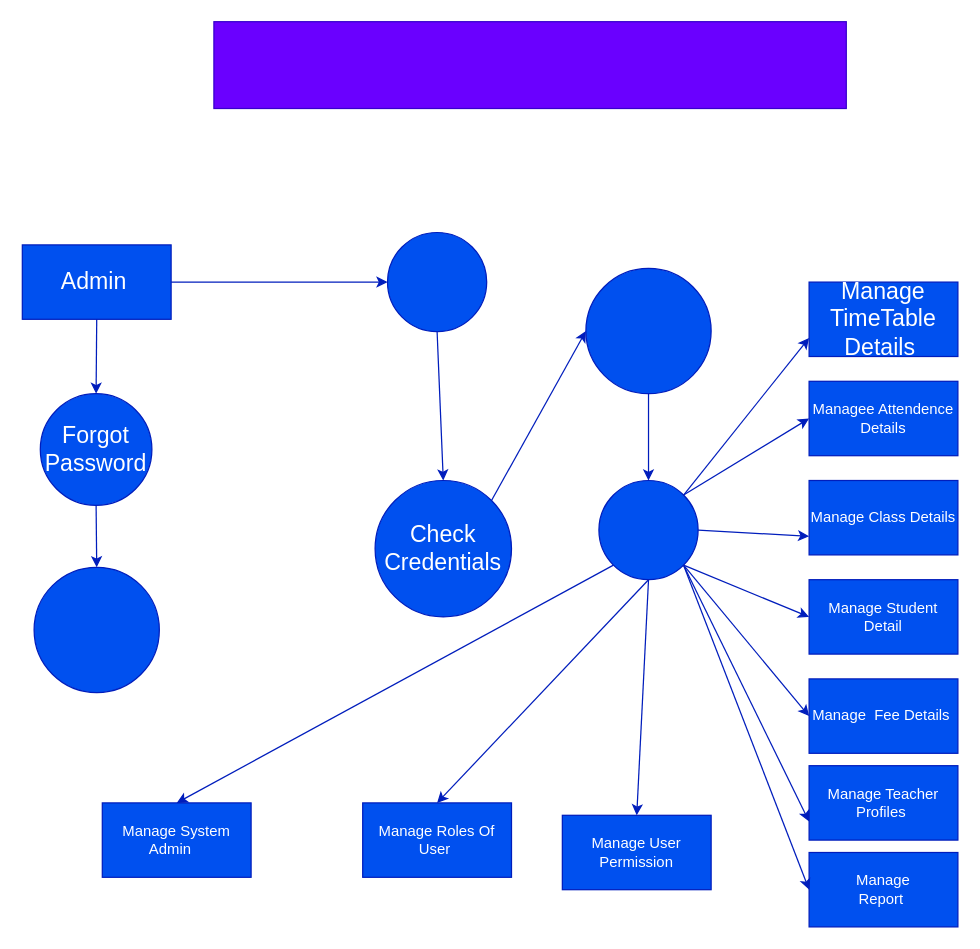
Image size: 980x949. Some labels were removed from this diagram. Here are the shapes that lost their labels. From the top down, the centre of each, then its label:
point 529,64: Student Information System
point 436,281: Login to System
point 648,330: Check Roles Of Access
point 648,529: Manage Modules
point 96,629: Send Email to User
